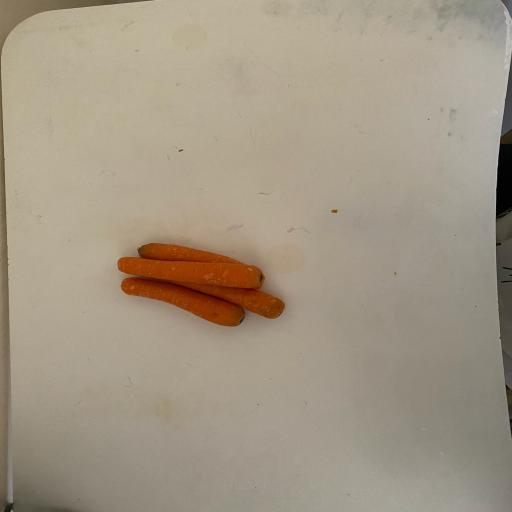carrot: (90, 249, 312, 340), (95, 263, 282, 351), (99, 223, 287, 294), (98, 244, 320, 302)
